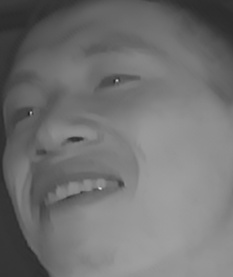eye: (92, 64, 141, 93), (1, 102, 41, 129)
mouth: (26, 169, 134, 229)
